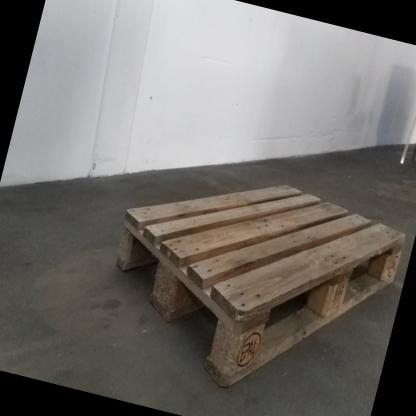BoxFace: (112, 179, 409, 394)
